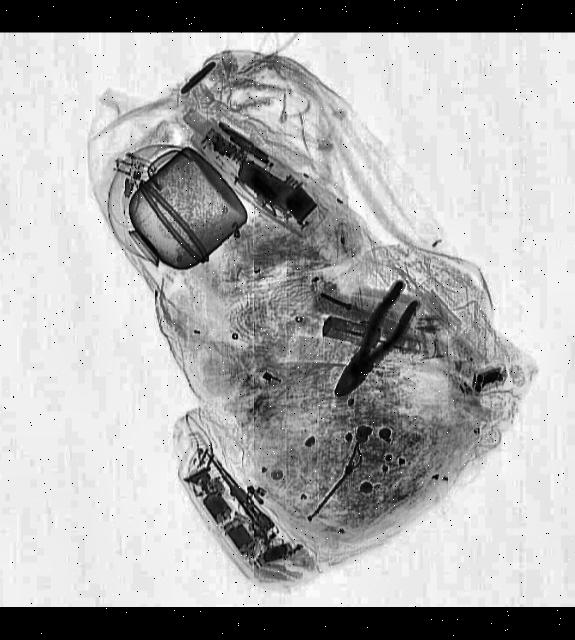Pliers: (320, 277, 428, 404)
